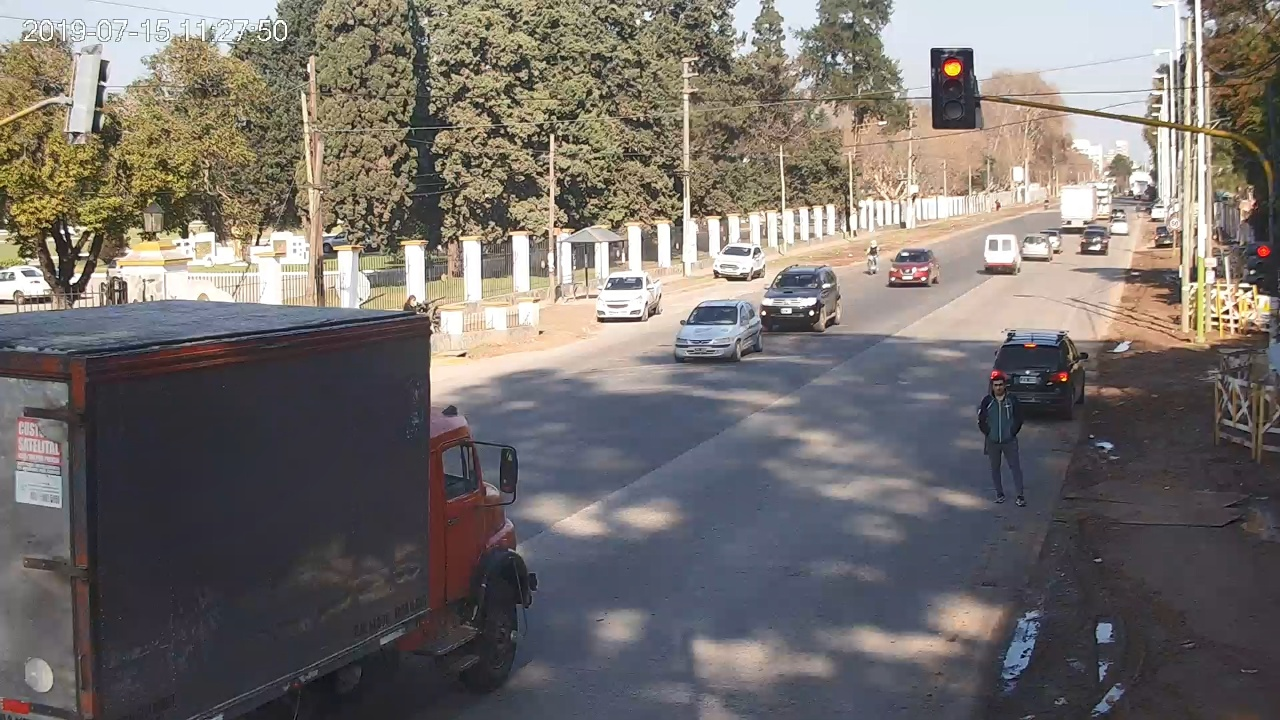traffic light: (939, 53, 968, 121), (1256, 243, 1272, 287)
truck: (1, 299, 537, 720)
